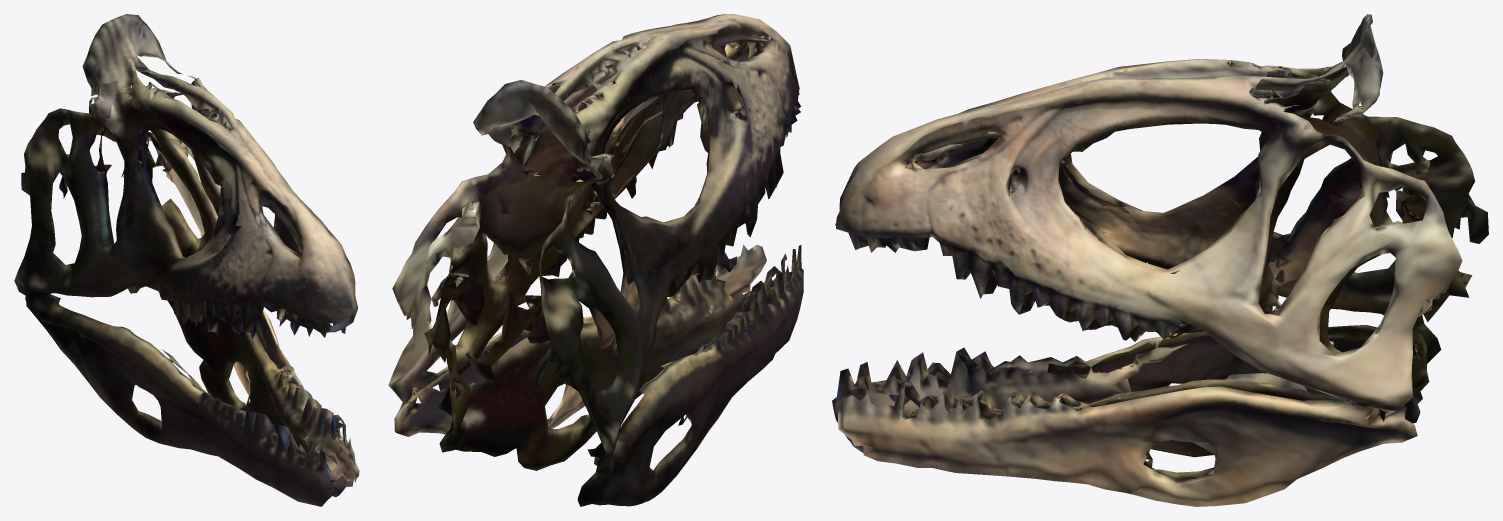
File: dinosaur_model-v1.glb
The picture shows the model from 3 angles, left to right: view 1: azimuth 30°, elevation 25°; view 2: azimuth 150°, elevation 25°; view 3: azimuth 270°, elevation 25°; orthographic projection. The views are drawn at different scales.
Parts seen in each view (by area): view 1: geo1; view 2: geo1; view 3: geo1.
Part boxes in pixels (<box>): geo1: <box>14,14,359,506</box>; geo1: <box>388,14,803,506</box>; geo1: <box>832,14,1488,506</box>.
Bounding box in the file's own units: 0.2844 × 0.5484 × 0.7105.
1 material, 1 textured.
